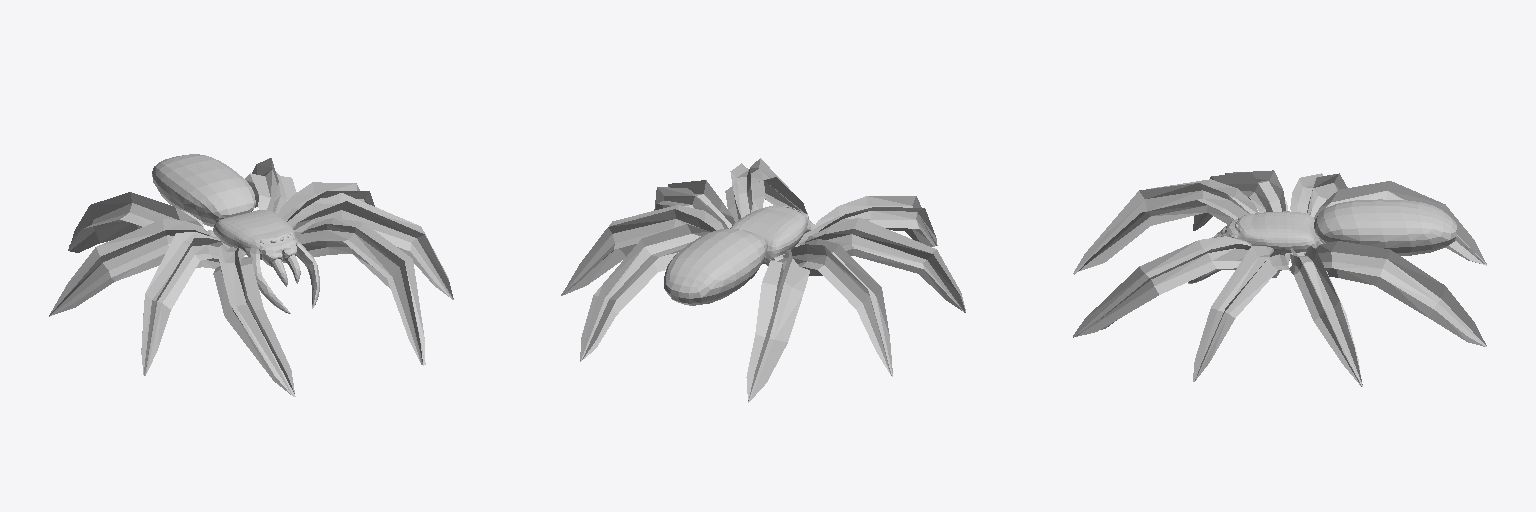
The model's file is spider10.obj.
The picture shows the model from 3 angles: view 1: azimuth 30°, elevation 25°; view 2: azimuth 150°, elevation 25°; view 3: azimuth 270°, elevation 25°; orthographic projection.
Visible parts, largest first — view 1: Cube_Cube.002; view 2: Cube_Cube.002; view 3: Cube_Cube.002.
Part boxes in pixels (x1,y1,x2,y2): Cube_Cube.002: (49, 154, 453, 396); Cube_Cube.002: (561, 158, 965, 402); Cube_Cube.002: (1073, 170, 1486, 386).
Size of the model in its own units: 9.2 by 2.65 by 9.93.